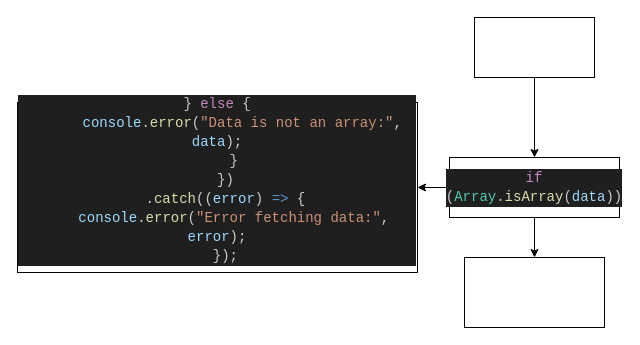
Image size: 640x345. Some labels were removed from this diagram. The shapes that lost their labels are listed below. From the top down, each one's centre as x and y in pixels, then its label:
At pixel 534 47: "FETCH DATA".
At pixel 534 292: "showSvampe ( data ); filterSvampe ();".
